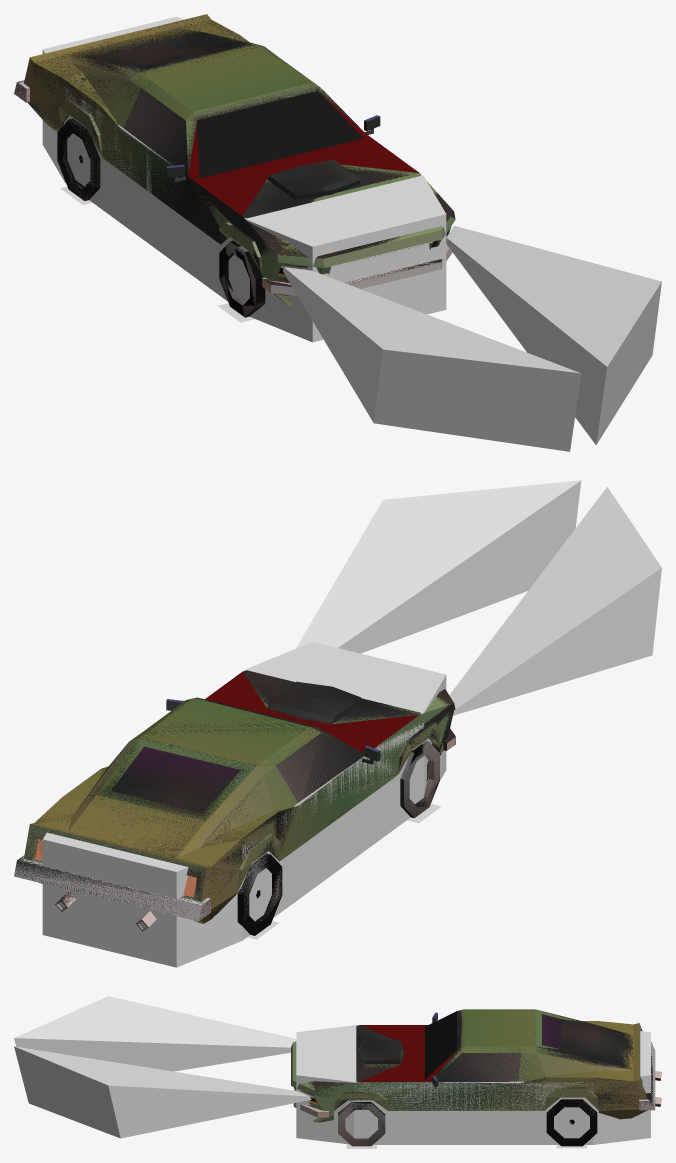
Rendered from Bane.fbx.
3 views of the same model, one above another, from view 1: azimuth 30°, elevation 25°; view 2: azimuth 150°, elevation 25°; view 3: azimuth 270°, elevation 25° (orthographic). The views are drawn at different scales.
Visible parts, largest first — view 1: bane_gr, bane, bane_cldr, bane_dead, bane_lckd, bane_rearwheels, bane_frontwheels; view 2: bane_gr, bane, bane_cldr, bane_dead, bane_lckd, bane_frontwheels, bane_rearwheels; view 3: bane_gr, bane, bane_cldr, bane_dead, bane_lckd, bane_frontwheels.
Part boxes in pixels (x1,y1,x2,y2): bane_gr: [282, 225, 661, 451]; bane: [14, 14, 455, 306]; bane_cldr: [42, 16, 446, 342]; bane_dead: [14, 14, 455, 303]; bane_lckd: [57, 34, 419, 315]; bane_rearwheels: [57, 119, 99, 200]; bane_frontwheels: [219, 241, 265, 317]; bane_gr: [296, 480, 661, 715]; bane: [14, 690, 454, 931]; bane_cldr: [42, 642, 446, 967]; bane_dead: [14, 670, 455, 930]; bane_lckd: [96, 672, 439, 935]; bane_frontwheels: [400, 741, 439, 817]; bane_rearwheels: [237, 854, 282, 933]; bane_gr: [14, 996, 311, 1138]; bane: [291, 1009, 661, 1122]; bane_cldr: [296, 1025, 650, 1144]; bane_dead: [294, 1010, 660, 1121]; bane_lckd: [339, 1011, 597, 1146]; bane_frontwheels: [338, 1102, 385, 1146].
Bounding box in the file's own units: 5.14 × 2.37 × 15.74.
